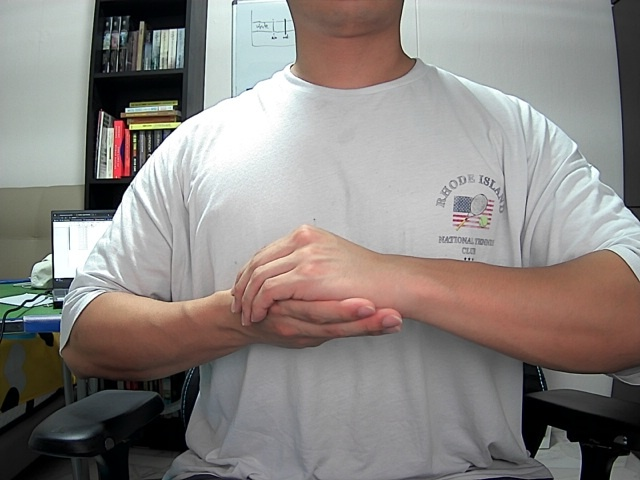Monkey: (196, 204, 452, 375)
